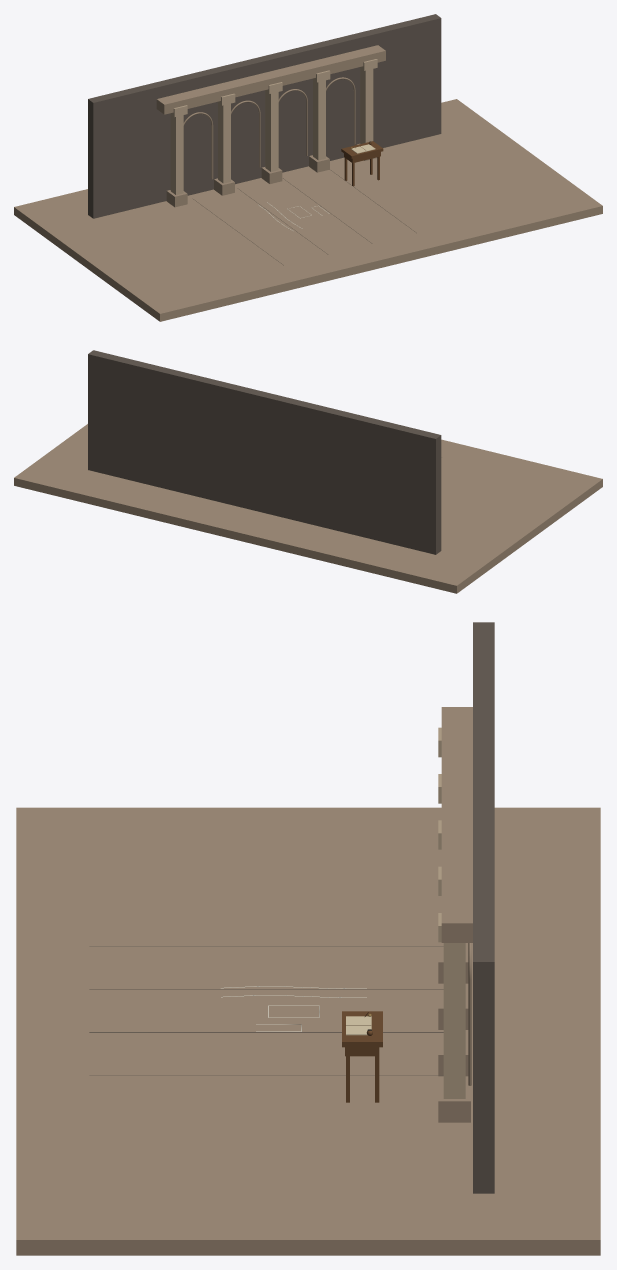
Rendered from SC04_Court.fbx.
The picture shows the model from 3 angles, top to bottom: view 1: azimuth 30°, elevation 25°; view 2: azimuth 150°, elevation 25°; view 3: azimuth 270°, elevation 25°; orthographic projection. The views are drawn at different scales.
Visible parts, largest first — view 1: Court floor, Back wall, Pavilion lintel, Pavilion pillar.002, Pavilion pillar, Pavilion pillar.004, Pavilion pillar.003, Pavilion pillar.001; view 2: Back wall, Court floor; view 3: Court floor, Back wall, Pavilion lintel, Pavilion pillar.004, Court clerk writing desk, Pillar plinth.004.
Part boxes in pixels (left/top/right/bottom): Court floor: left=14, top=99, right=602, bottom=321; Back wall: left=88, top=14, right=441, bottom=218; Pavilion lintel: left=156, top=45, right=385, bottom=114; Pavilion pillar.002: left=265, top=91, right=278, bottom=171; Pavilion pillar: left=170, top=115, right=183, bottom=194; Pavilion pillar.004: left=360, top=68, right=373, bottom=143; Pavilion pillar.003: left=313, top=80, right=325, bottom=160; Pavilion pillar.001: left=218, top=103, right=230, bottom=183; Back wall: left=88, top=350, right=441, bottom=554; Court floor: left=14, top=424, right=602, bottom=593; Court floor: left=16, top=807, right=600, bottom=1255; Back wall: left=473, top=622, right=494, bottom=1193; Pavilion lintel: left=441, top=707, right=472, bottom=942; Pavilion pillar.004: left=443, top=943, right=465, bottom=1098; Court clerk writing desk: left=342, top=1011, right=382, bottom=1047; Pillar plinth.004: left=438, top=1089, right=470, bottom=1122.
Size of the model in its own units: 14 by 3.74 by 8.
